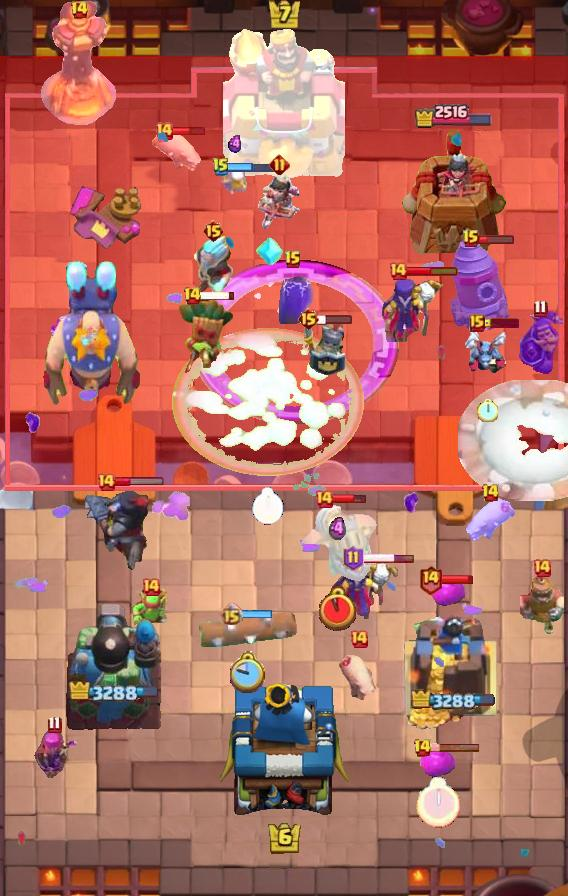archer-evolution: (29, 724, 79, 784)
bar: (227, 161, 279, 174), (406, 265, 459, 277), (361, 553, 415, 564), (429, 742, 481, 753), (114, 476, 165, 487), (331, 492, 367, 505), (317, 313, 353, 325), (172, 125, 207, 137), (199, 290, 236, 301), (478, 234, 515, 245), (240, 609, 274, 620), (440, 574, 474, 585), (483, 318, 519, 328)
bar-level: (418, 564, 443, 595), (297, 307, 320, 331), (202, 219, 225, 243), (343, 545, 364, 571), (220, 603, 243, 626), (269, 154, 290, 175), (349, 629, 369, 649), (141, 577, 161, 597), (532, 558, 552, 578), (314, 489, 334, 509), (96, 472, 116, 492), (388, 261, 408, 281), (154, 121, 174, 141), (413, 738, 432, 758), (481, 483, 500, 503), (183, 286, 202, 306), (70, 0, 89, 20), (284, 250, 302, 270), (462, 229, 480, 249), (212, 157, 230, 177), (469, 314, 485, 332), (47, 715, 62, 734), (533, 299, 548, 318)
cannoneer-tower: (64, 601, 164, 731)
clock: (416, 777, 460, 828), (319, 586, 356, 631), (230, 651, 267, 693), (252, 487, 284, 525), (477, 398, 498, 422)
dart-goblin: (176, 294, 236, 374)
electro-spirit: (273, 274, 313, 324)
elixir: (329, 516, 346, 542), (227, 135, 244, 153)
elixir-golem-small: (420, 749, 456, 779), (430, 578, 466, 608)
guard: (301, 316, 347, 378)
hog: (462, 497, 518, 547), (149, 127, 205, 177), (336, 652, 382, 704)
ice-spirit-evolution-symbol: (256, 234, 284, 268)
ice-wizard: (191, 233, 235, 299)
king-tower: (220, 678, 349, 826), (223, 27, 345, 181)
knight-evolution: (518, 309, 563, 377)
minion: (465, 327, 509, 373)
princess: (255, 171, 303, 233)
queen-tower: (398, 128, 508, 256), (402, 613, 505, 731)
royal-recruit: (520, 570, 564, 634)
skeleton: (221, 166, 249, 198)
spear-goblin: (130, 587, 172, 633)
the-log: (198, 612, 298, 648)
tower-bar: (69, 681, 159, 705), (413, 102, 493, 129), (411, 690, 495, 712)
witch: (330, 557, 400, 619), (380, 276, 444, 342)
